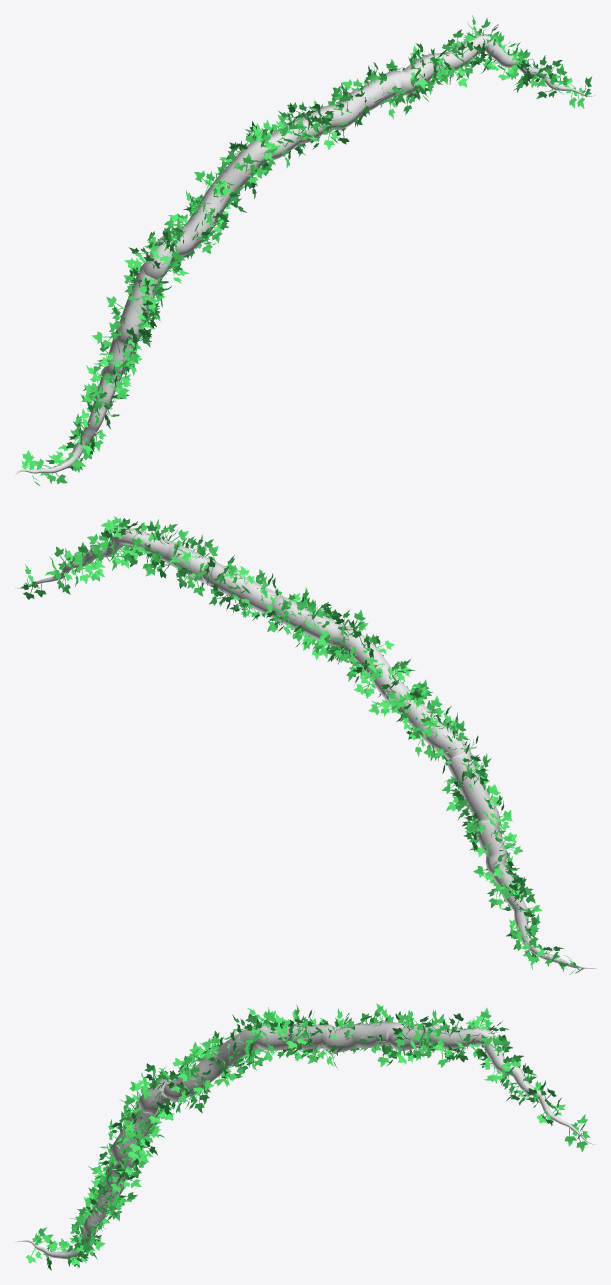
Rendered from VineDeco4.fbx.
3 views of the same model, one above another, from view 1: azimuth 30°, elevation 25°; view 2: azimuth 150°, elevation 25°; view 3: azimuth 330°, elevation 25° (orthographic).
Visible parts, largest first — view 1: BézierCurve.015; view 2: BézierCurve.015; view 3: BézierCurve.015.
Boxes of the visible parts, x1,y1,x2,y2 form: BézierCurve.015: [14, 15, 595, 485]; BézierCurve.015: [15, 516, 596, 974]; BézierCurve.015: [14, 1003, 595, 1270].
Size of the model in its own units: 2181 by 1278 by 227.
